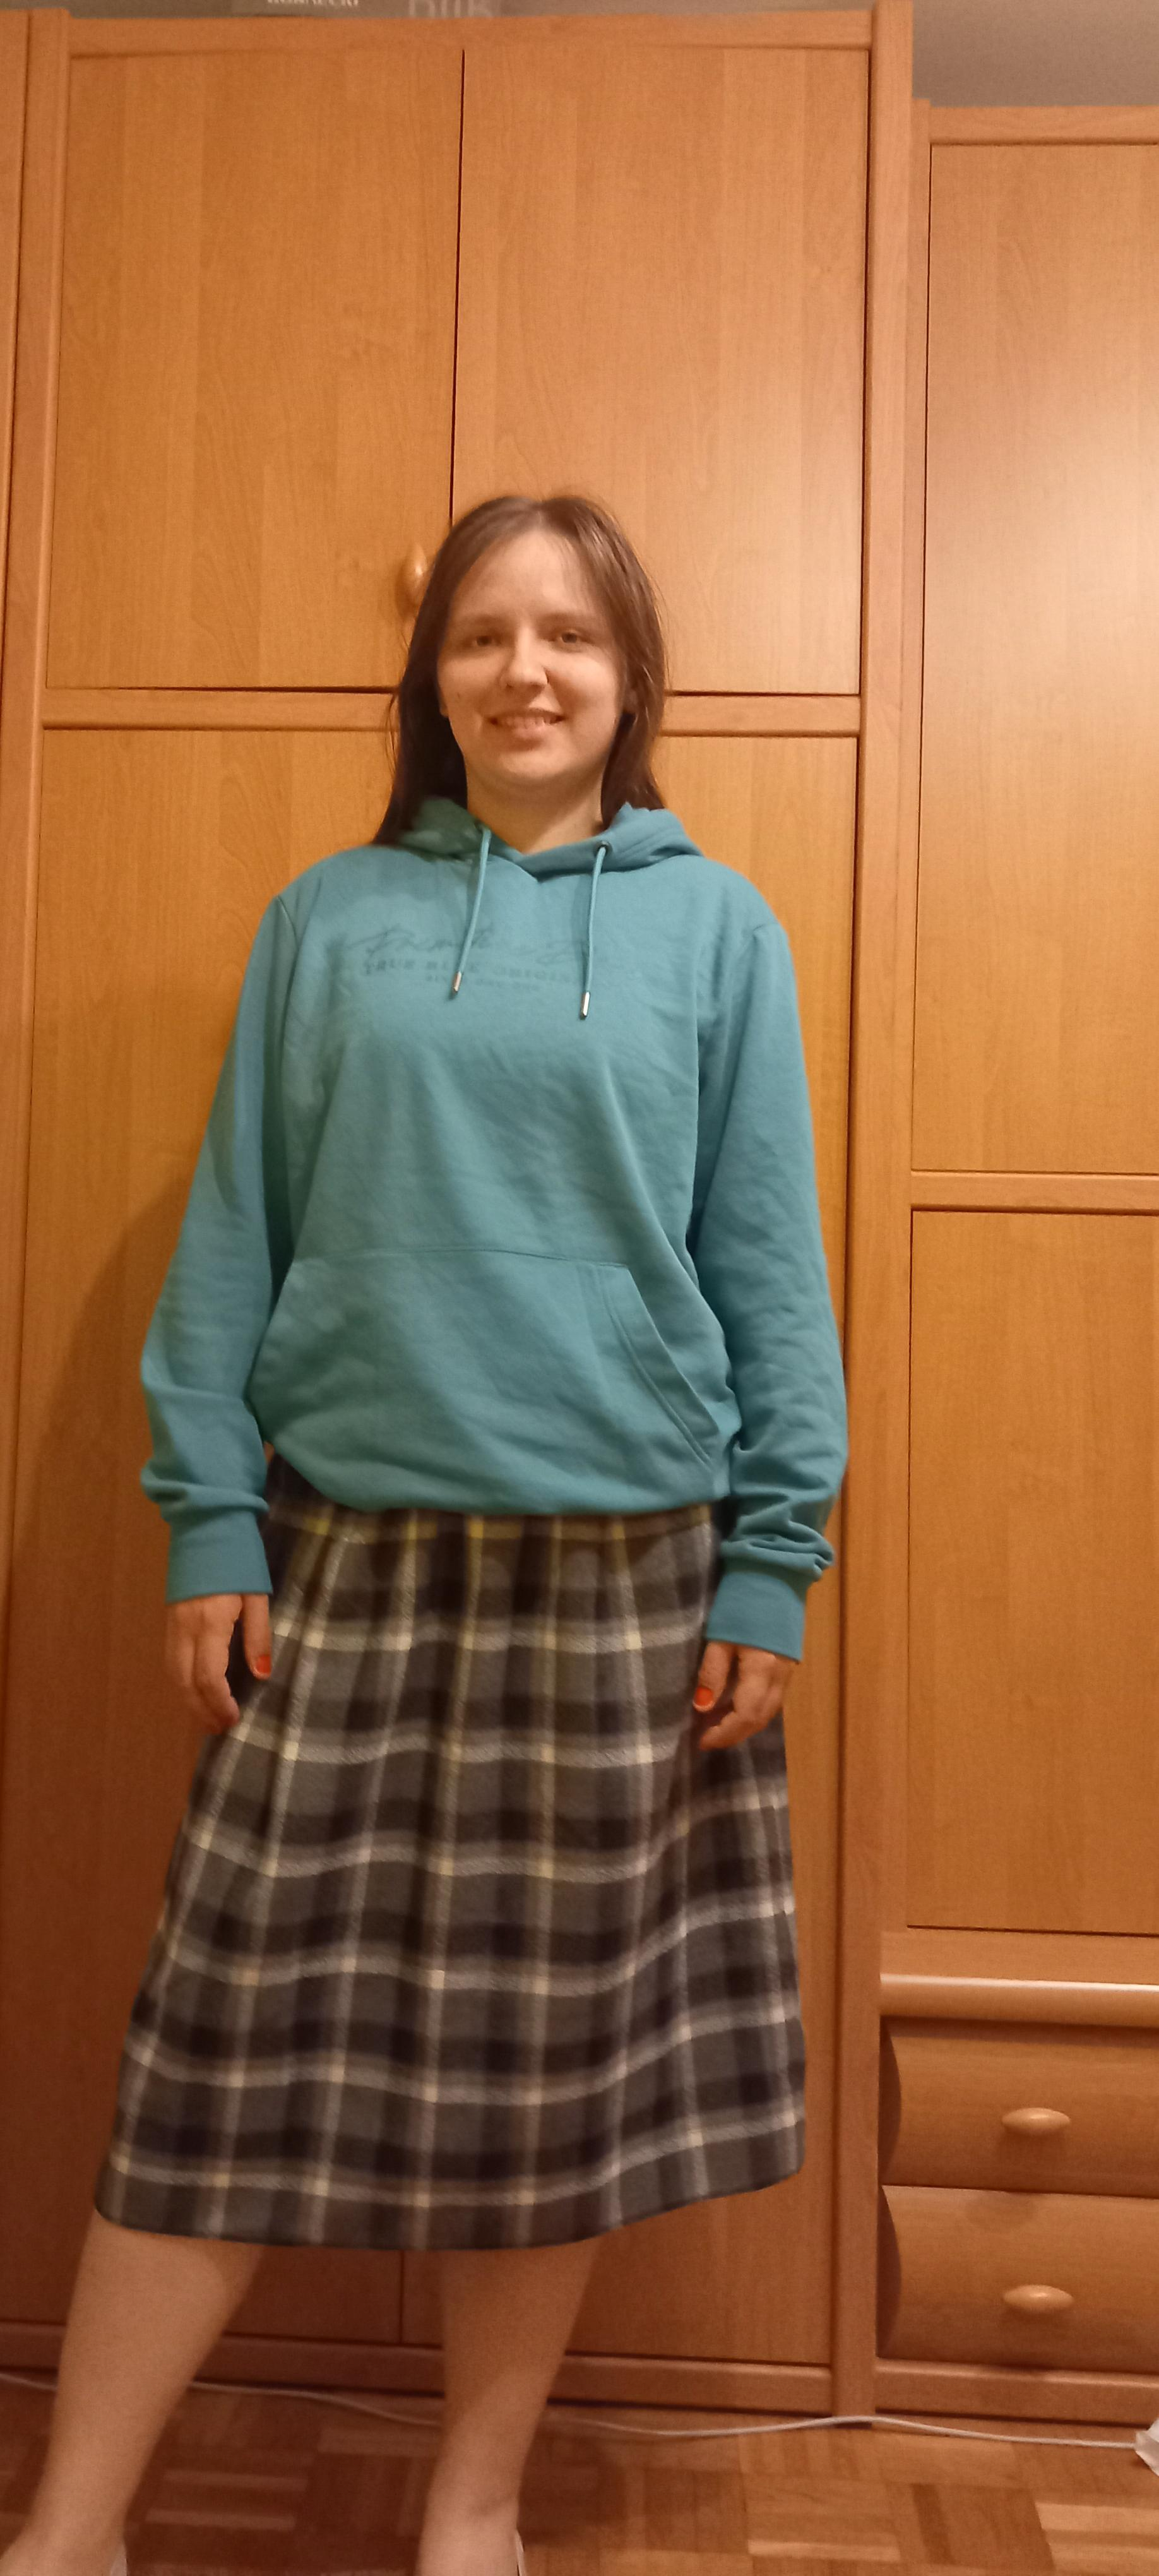skirt: (92, 1456, 808, 2254)
sweater: (136, 797, 850, 1664)
